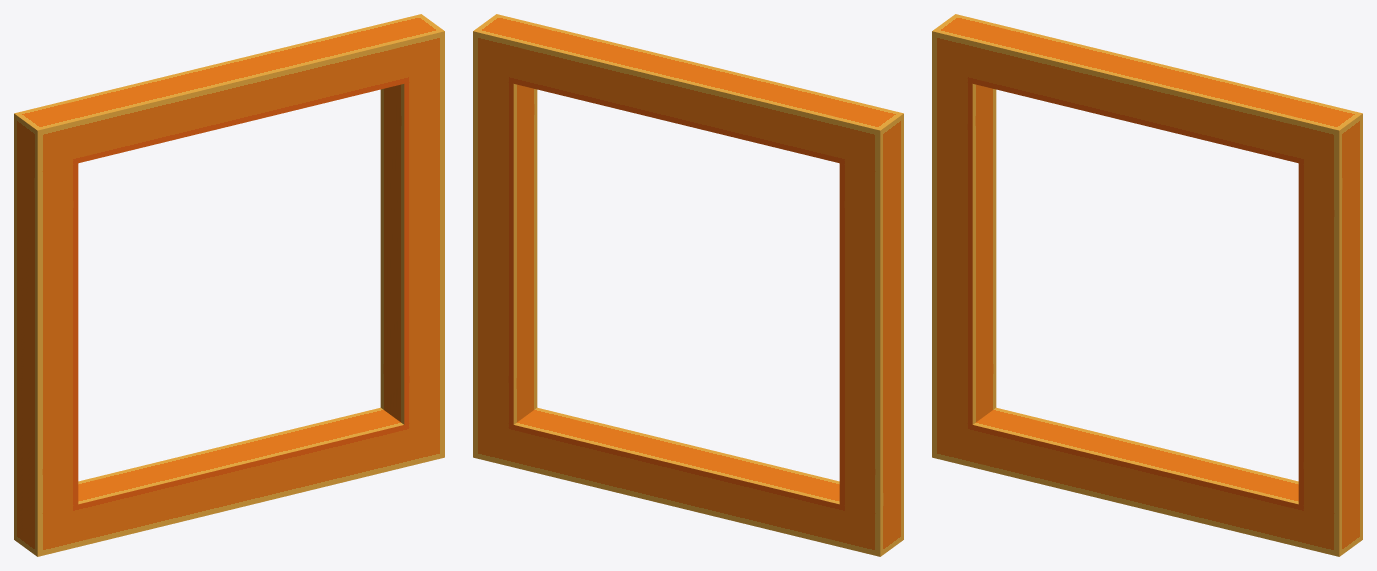
The model's file is gen_4ao.fezao.glb.
3 renders of one model, left to right at view 1: azimuth 30°, elevation 25°; view 2: azimuth 150°, elevation 25°; view 3: azimuth 330°, elevation 25°, orthographic.
Visible parts, largest first — view 1: GEN_4AO; view 2: GEN_4AO; view 3: GEN_4AO.
Boxes of the visible parts, x1,y1,x2,y2 form: GEN_4AO: (14, 14, 444, 556); GEN_4AO: (473, 14, 903, 556); GEN_4AO: (932, 14, 1362, 556).
Size of the model in its own units: 5 by 5 by 0.5.
1 material, 1 textured.
